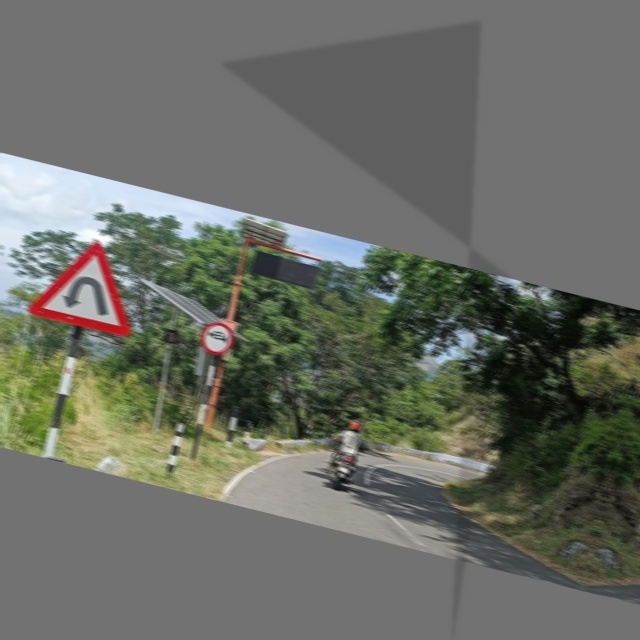Left_Hair_Pin_Bend: (26, 228, 148, 344)
